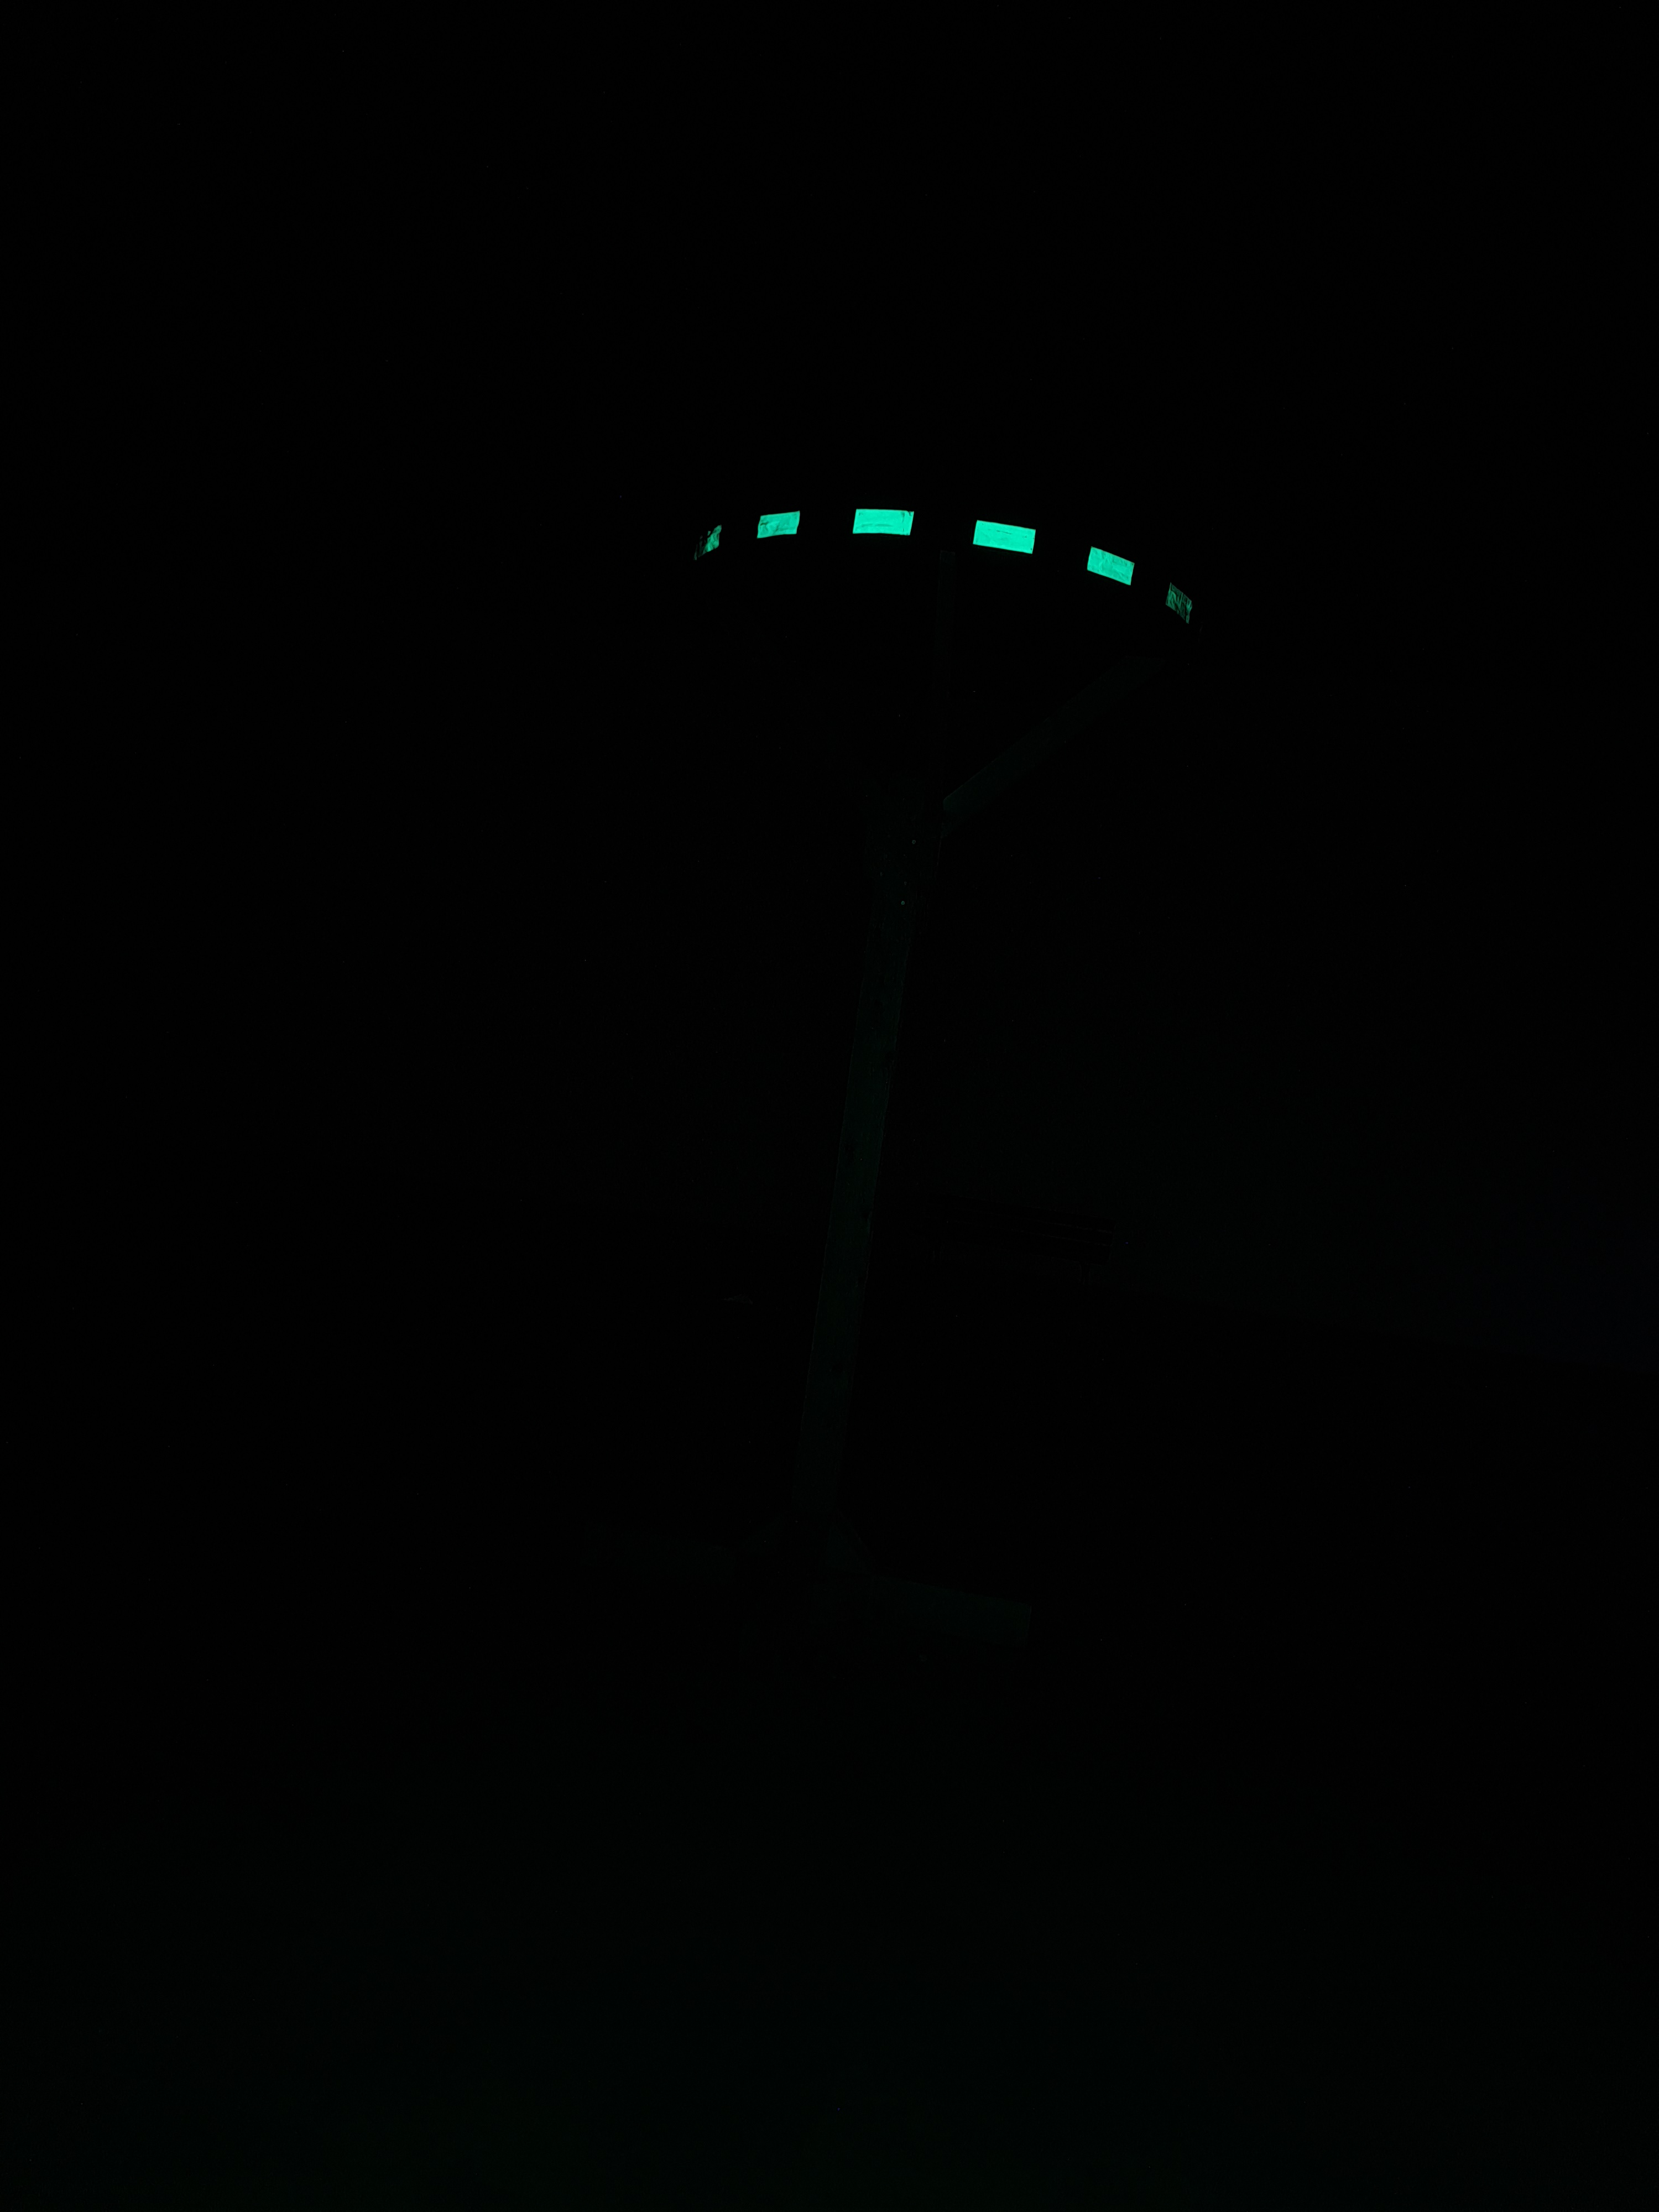hoop: (685, 495, 1195, 625)
